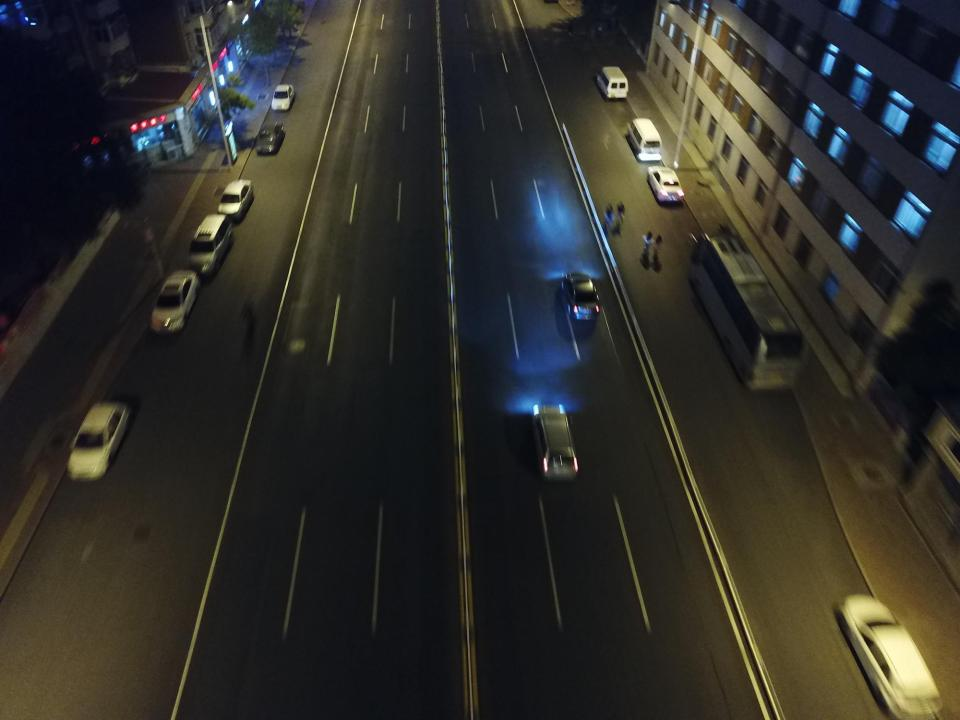bus: (687, 226, 808, 397)
car: (527, 402, 582, 484), (144, 268, 202, 334), (182, 212, 229, 269), (645, 161, 687, 208), (625, 113, 663, 163), (215, 176, 257, 221), (254, 120, 289, 156), (270, 80, 296, 112)
van: (835, 589, 946, 720), (63, 400, 129, 483), (589, 58, 629, 103)
